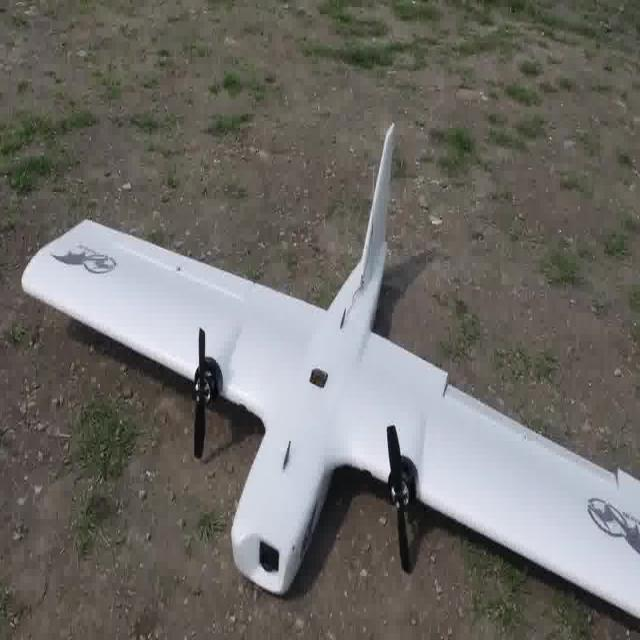iha: (13, 116, 634, 626)
